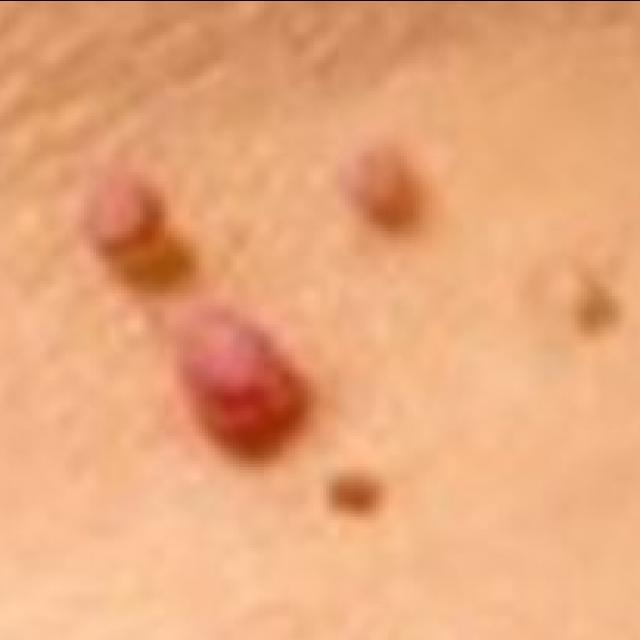wart: (174, 298, 304, 469)
